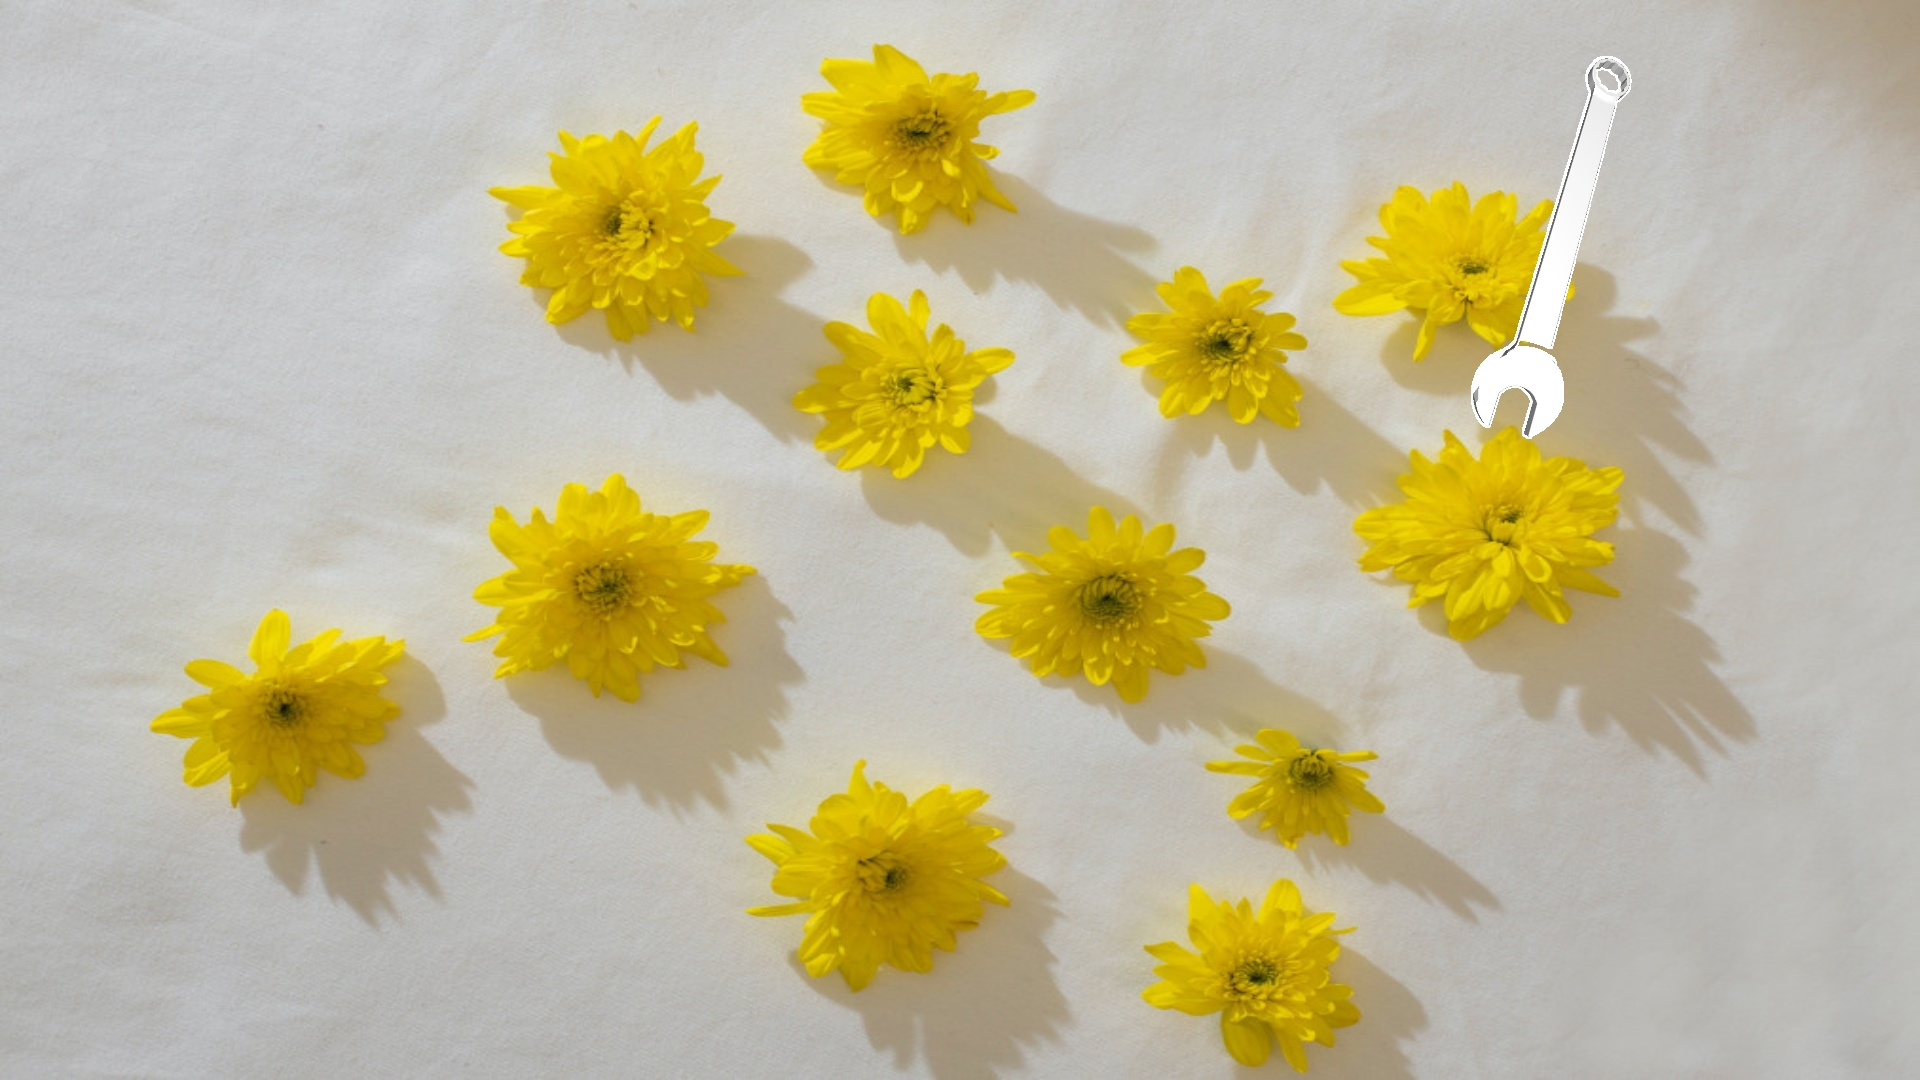Mixed Key: (1472, 55, 1631, 438)
